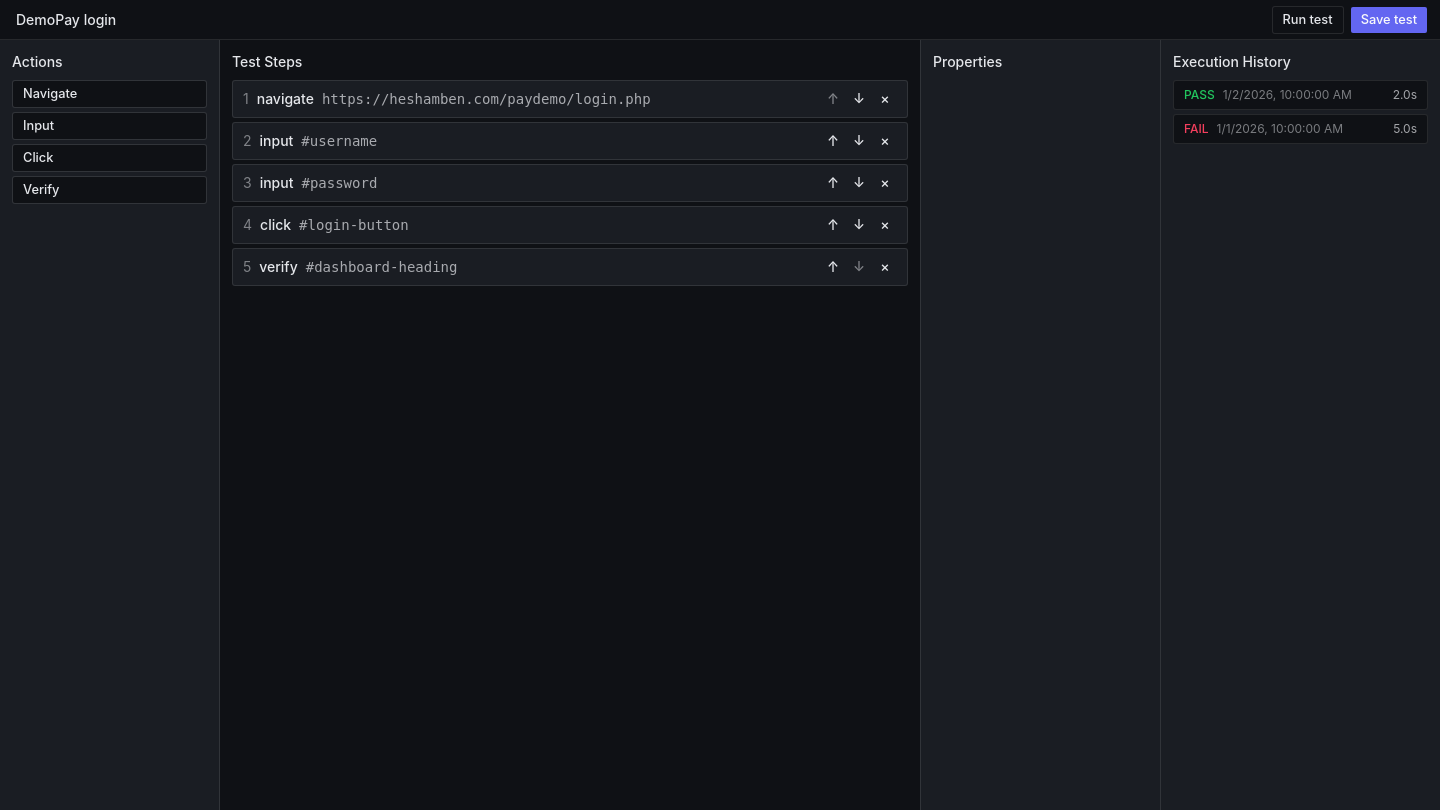
it: TestDesigner (Execution History) › shows a past execution's log when clicked, reusing the PASS/FAIL display pattern
The width and height of the screenshot is (1440, 810).
Step 1. Click the list item "FAIL 1/1/2026, 10:00:00 AM 5.0s" → (1300, 129), box [1173,114,1428,144]
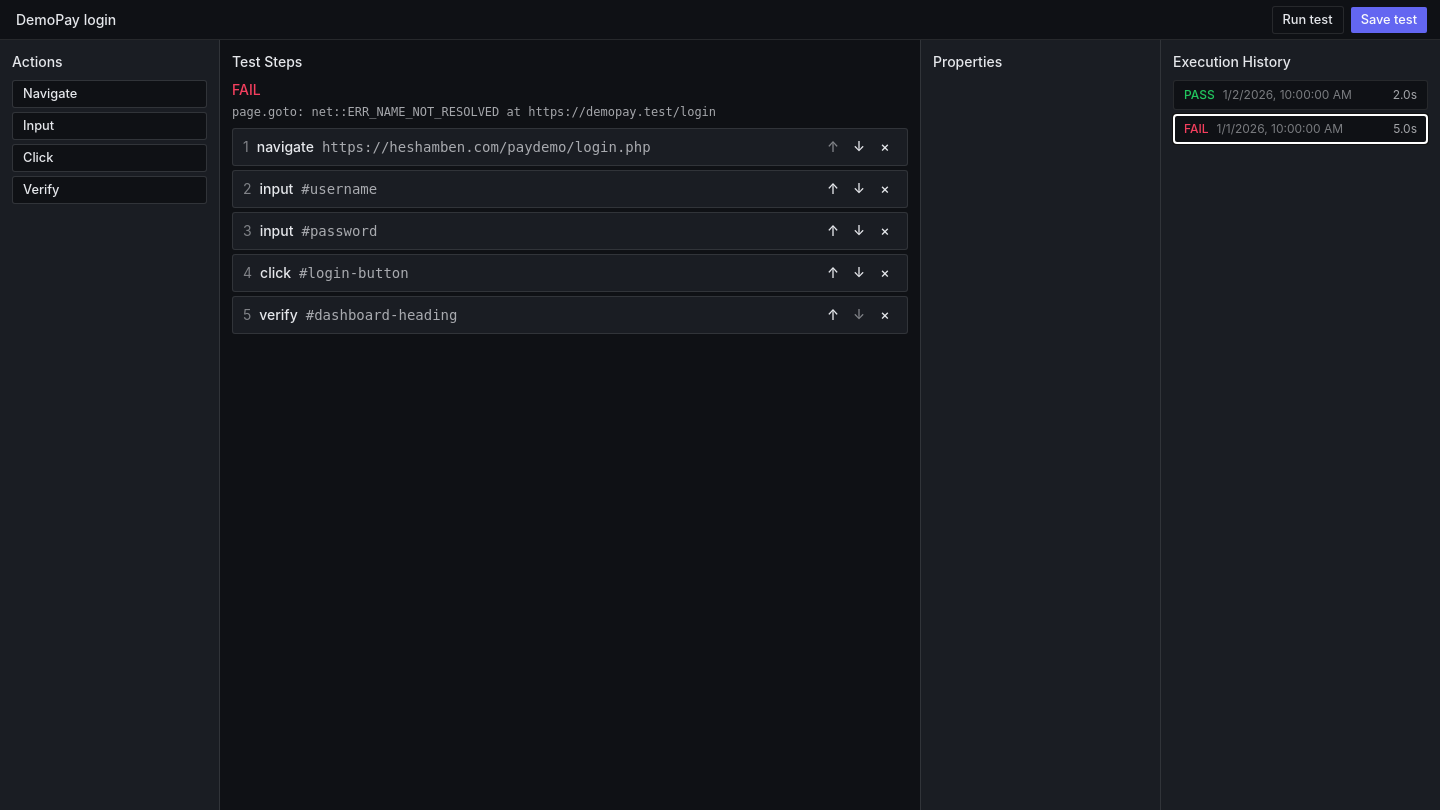
expect the text "net::ERR_NAME_NOT_RESOLVED" is shown: met, box [232,105,716,119]
